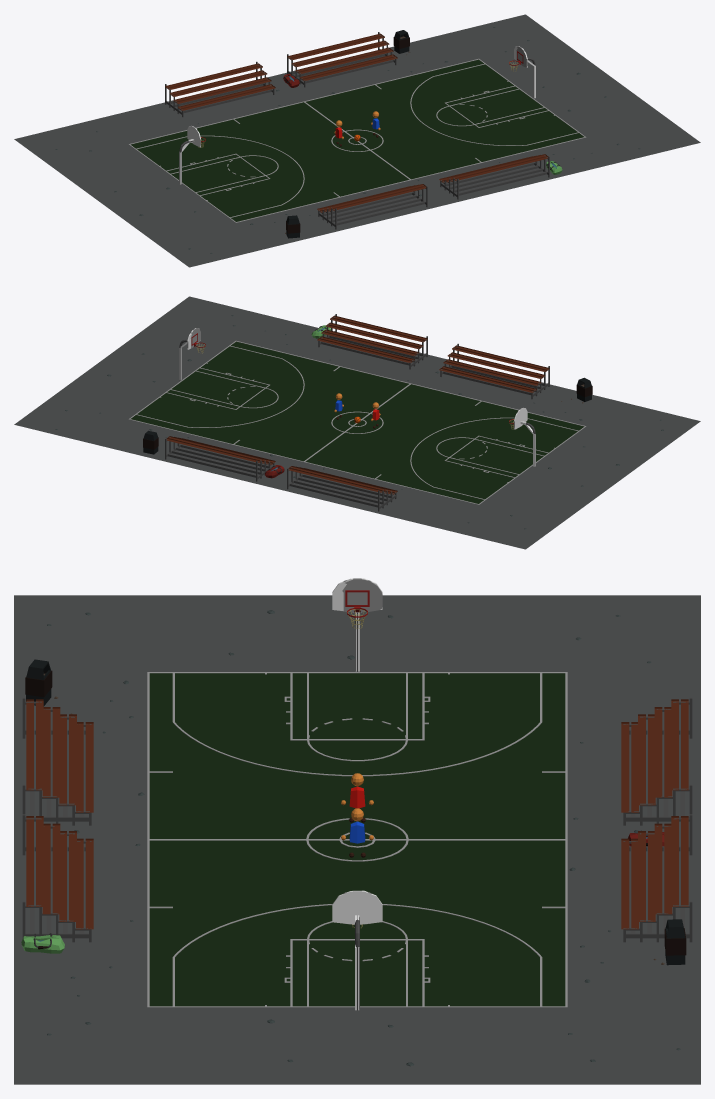
Rendered from basketball scene.fbx.
The picture shows the model from 3 angles, top to bottom: view 1: azimuth 30°, elevation 25°; view 2: azimuth 150°, elevation 25°; view 3: azimuth 270°, elevation 25°; orthographic projection. The views are drawn at different scales.
Parts seen in each view (by area): view 1: Basketball Terrain; view 2: Basketball Terrain; view 3: Basketball Terrain, Box005, ring stand.
Boxes of the visible parts, left/top/right/bottom form: Basketball Terrain: left=14, top=14, right=700, bottom=267; Basketball Terrain: left=14, top=296, right=700, bottom=549; Basketball Terrain: left=14, top=595, right=700, bottom=1084; Box005: left=332, top=890, right=382, bottom=924; ring stand: left=339, top=578, right=382, bottom=671.
Bounding box in the file's own units: 4194 × 433 × 2489.
